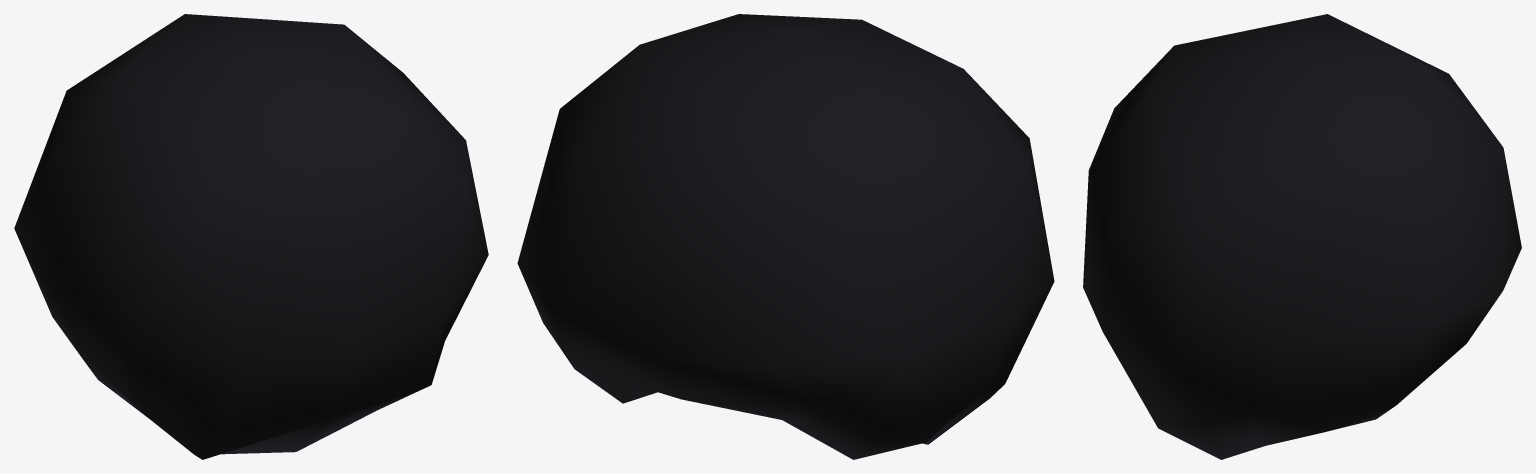
File: afro.glb
3 views of the same model, side by side, from view 1: azimuth 30°, elevation 25°; view 2: azimuth 150°, elevation 25°; view 3: azimuth 270°, elevation 25° (orthographic). The views are drawn at different scales.
Visible parts, largest first — view 1: afro; view 2: afro; view 3: afro.
Part boxes in pixels (<box>): afro: <box>14,14,488,459</box>; afro: <box>517,14,1054,459</box>; afro: <box>1083,14,1521,459</box>.
Size of the model in its own units: 0.4419 by 0.3948 by 0.414.
Materials: 1 (1 with a texture image).
